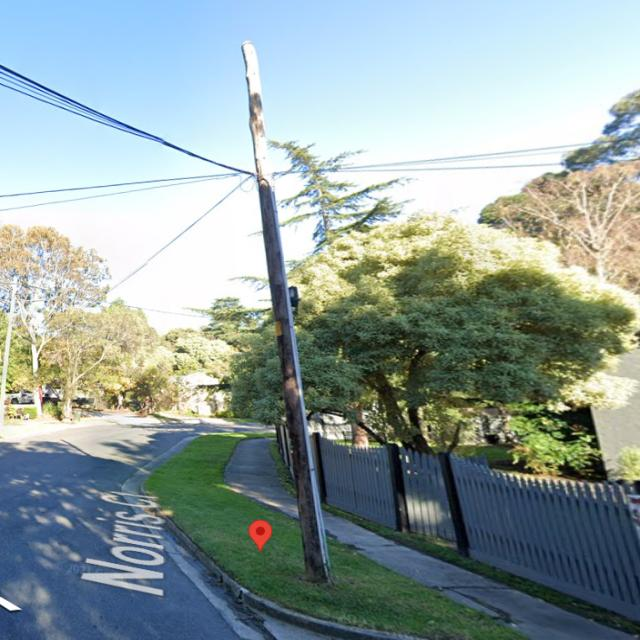timber-pole: (240, 39, 329, 584)
top mount suitable pole: (240, 39, 334, 584)
